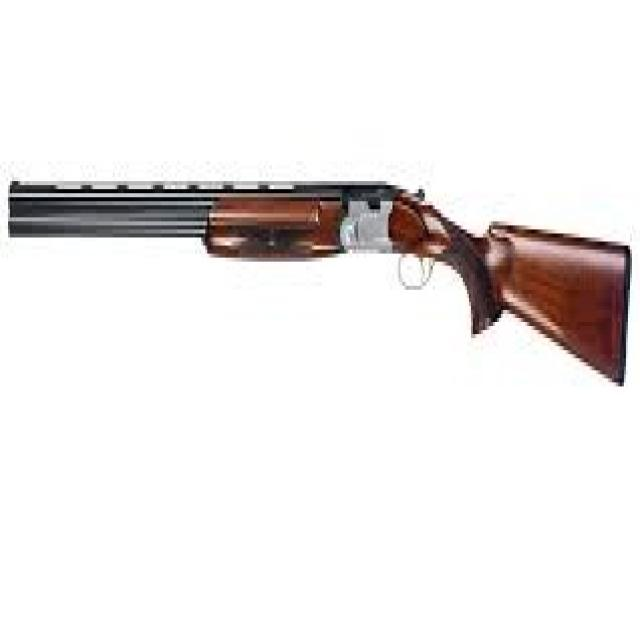rifle: (6, 143, 635, 398)
